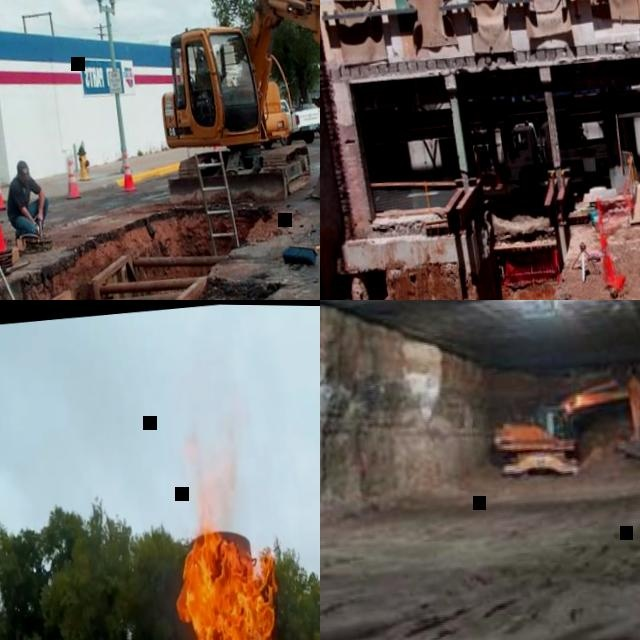NO-Hardhat: (15, 158, 28, 174)
NO-Safety Vest: (10, 178, 35, 216)
Person: (1, 154, 51, 240)
Safety Cone: (297, 218, 320, 300), (0, 196, 13, 269), (60, 156, 81, 200), (117, 150, 137, 192), (594, 197, 607, 250), (0, 168, 7, 210)
machinery: (142, 0, 320, 216), (483, 367, 640, 481), (500, 112, 621, 192)
vehicle: (275, 93, 320, 143), (295, 98, 320, 136)
